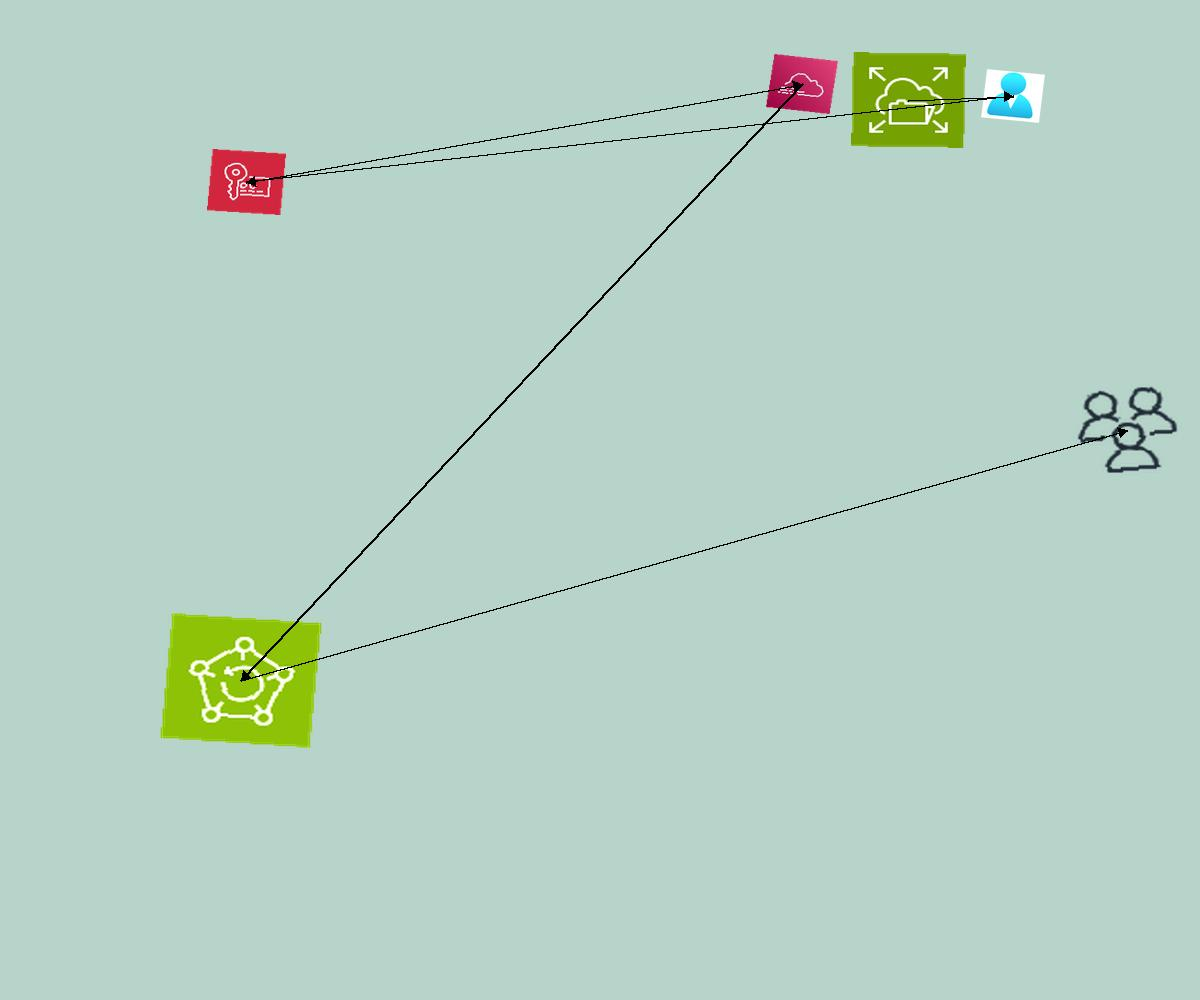AWS-Backup: (159, 612, 323, 749)
AWS-CloudTrail: (766, 54, 838, 114)
AWS-EFS: (851, 52, 966, 148)
AWS-Key-Management-Service: (207, 149, 286, 215)
AWS-Res_Users: (1067, 380, 1188, 480)
Azure_users: (981, 69, 1045, 123)
